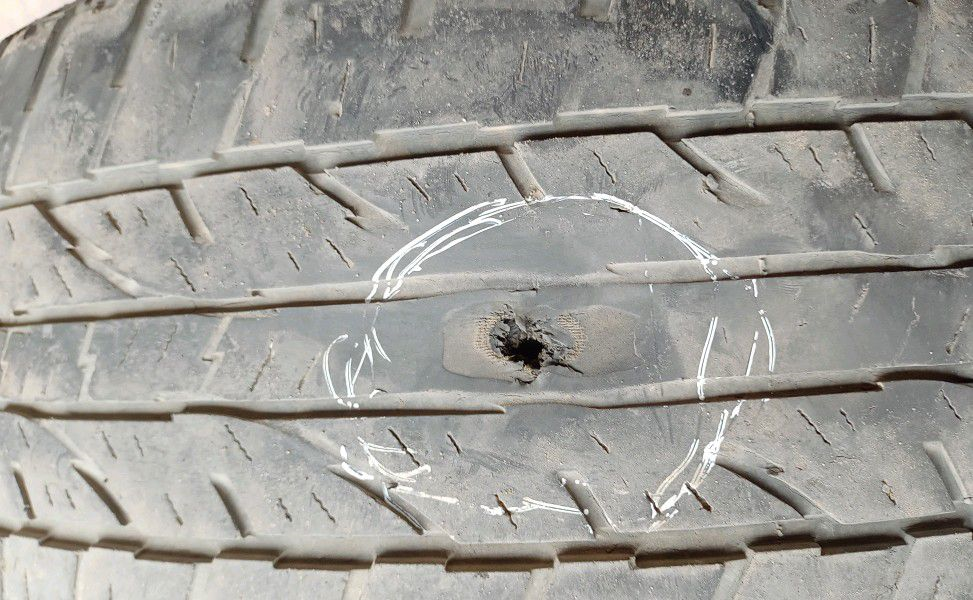tr: (474, 304, 592, 386)
